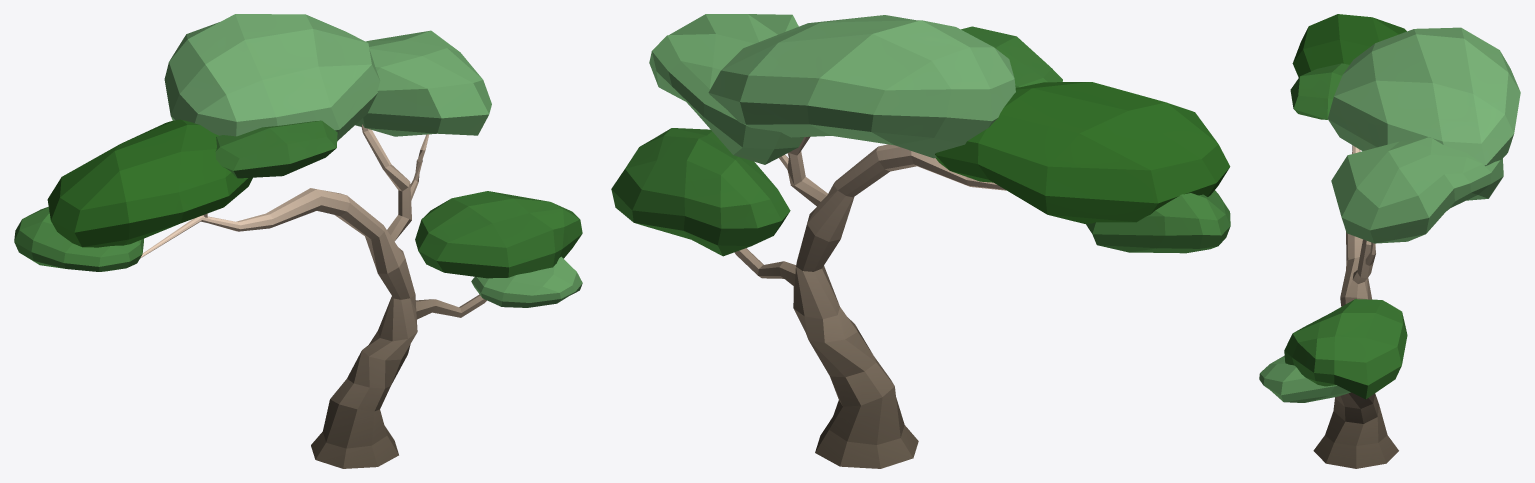
Rendered from Tree_Bonsai.fbx.
3 views of the same model, side by side, from view 1: azimuth 30°, elevation 25°; view 2: azimuth 150°, elevation 25°; view 3: azimuth 270°, elevation 25° (orthographic). The views are drawn at different scales.
Parts seen in each view (by area): view 1: Leaf_Top.001, Bonsai_Tree; view 2: Leaf_Top.001, Bonsai_Tree; view 3: Leaf_Top.001, Bonsai_Tree.
Boxes of the visible parts, x1,y1,x2,y2 form: Leaf_Top.001: (14, 14, 582, 307); Bonsai_Tree: (140, 124, 486, 468); Leaf_Top.001: (611, 14, 1230, 256); Bonsai_Tree: (734, 136, 1006, 468); Leaf_Top.001: (1259, 14, 1520, 402); Bonsai_Tree: (1313, 145, 1398, 468).
Size of the model in its own units: 867 by 636 by 393.
